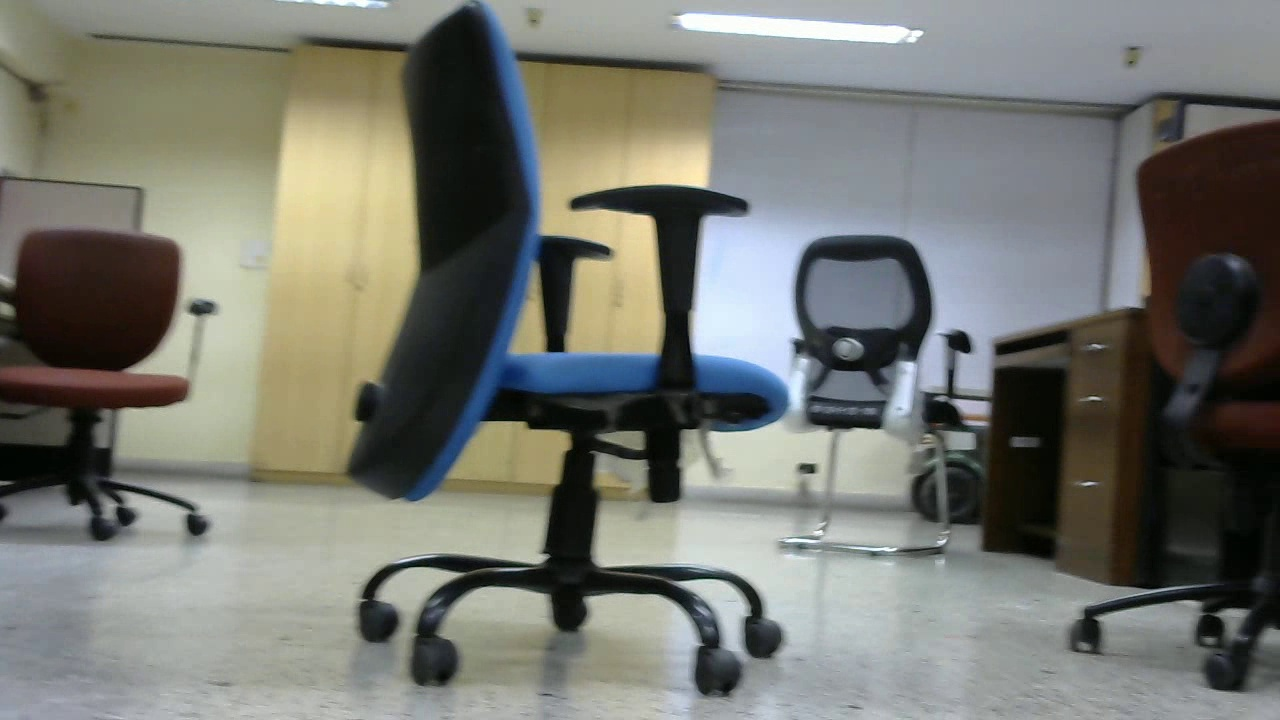chair: (351, 1, 782, 697), (4, 214, 215, 540), (775, 231, 957, 558)
